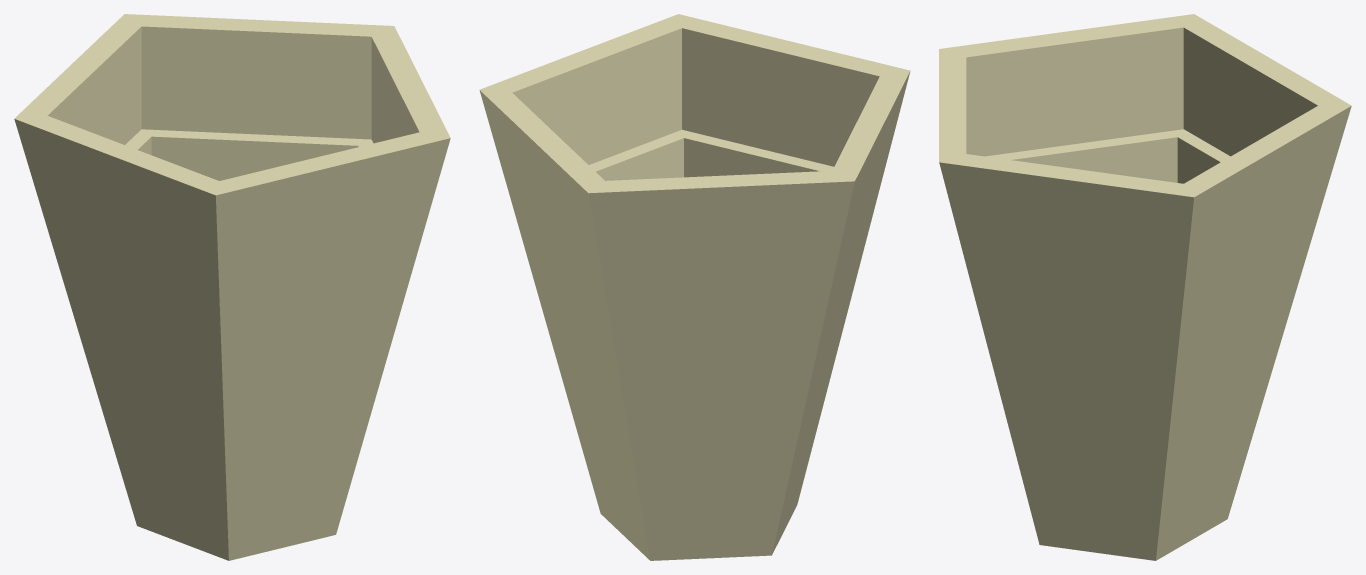
File: cup.glb
The picture shows the model from 3 angles, left to right: view 1: azimuth 30°, elevation 25°; view 2: azimuth 150°, elevation 25°; view 3: azimuth 270°, elevation 25°; orthographic projection.
Visible parts, largest first — view 1: Cylinder; view 2: Cylinder; view 3: Cylinder.
Part boxes in pixels (box(x1,y1,x2,y2)): Cylinder: box(14, 14, 450, 560); Cylinder: box(479, 14, 910, 560); Cylinder: box(939, 14, 1351, 560).
Bounding box in the file's own units: 0.116 × 0.1219 × 0.1103.
